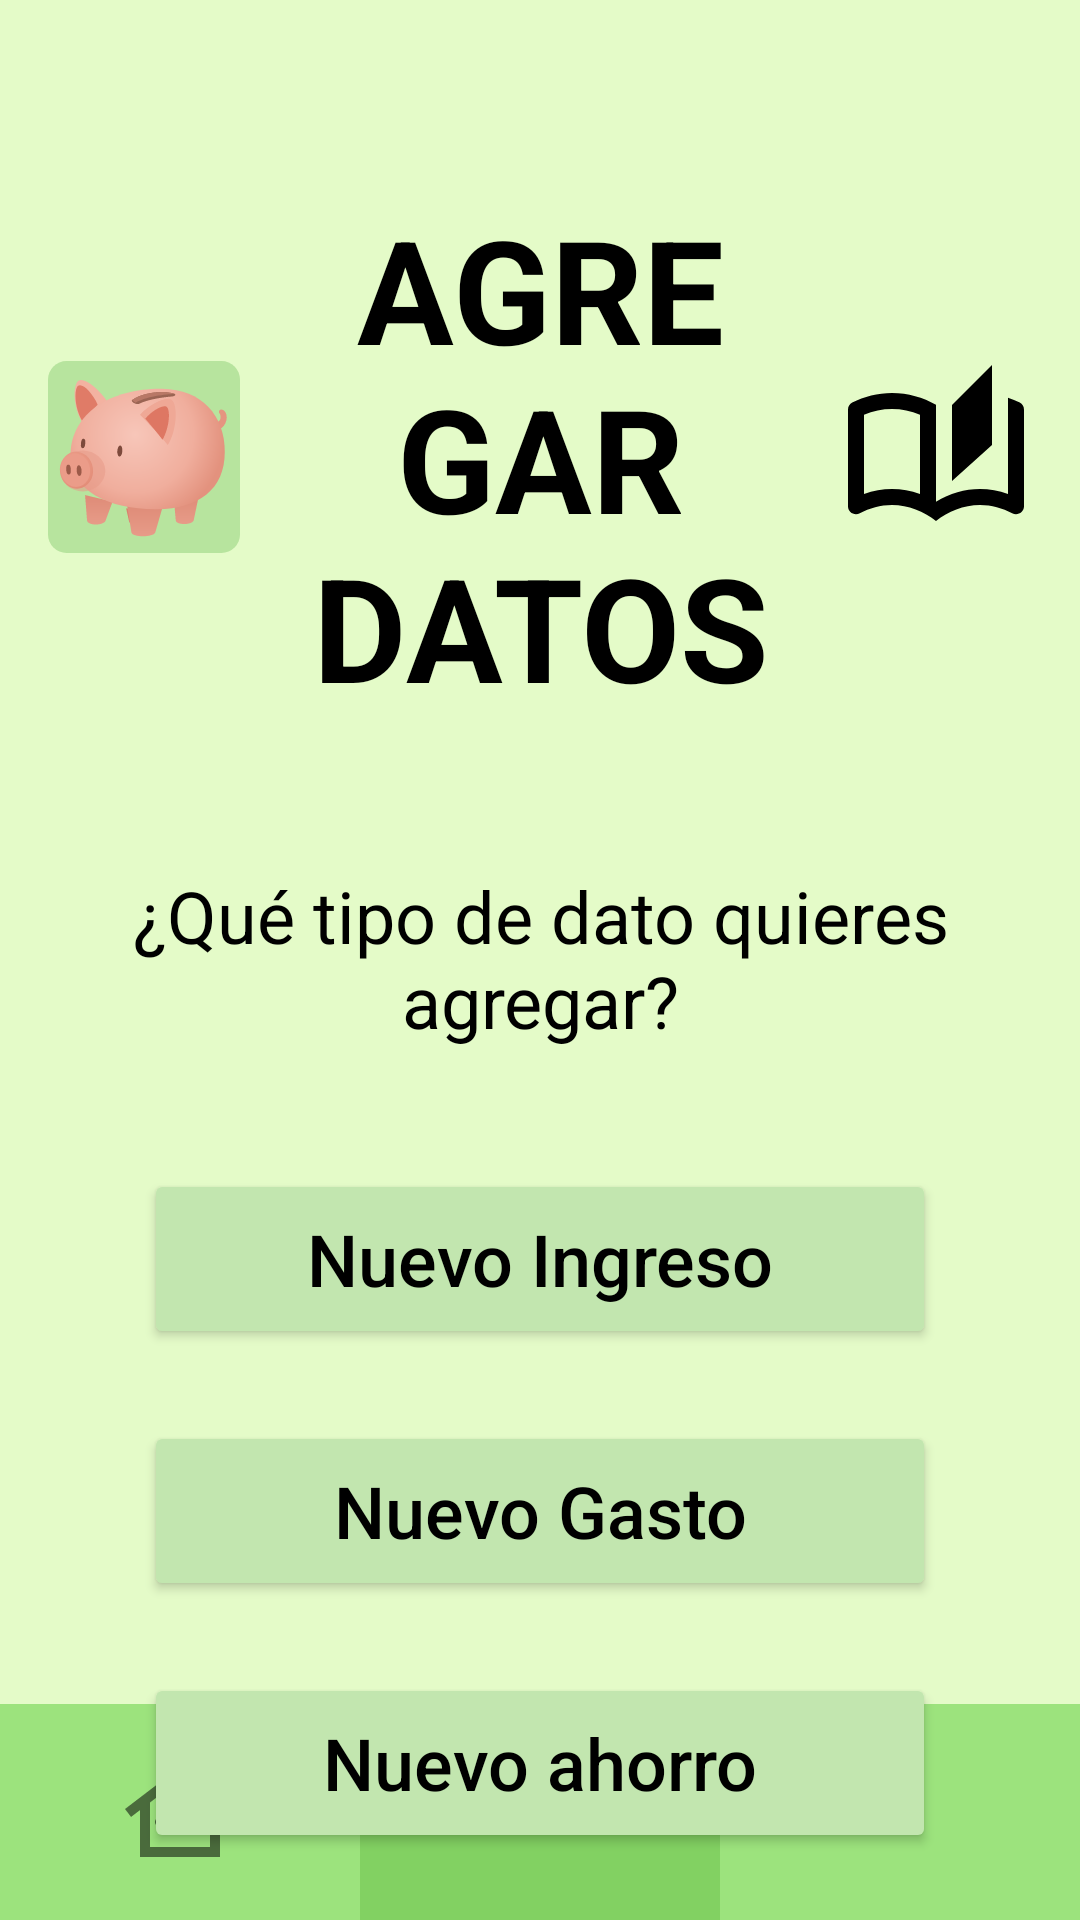

Point at icon controls on the screen. Image size 1080*1920, points as (x,y).
libreta: (936,443)
